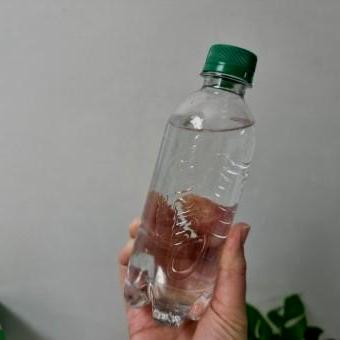bottle: (124, 44, 258, 327)
